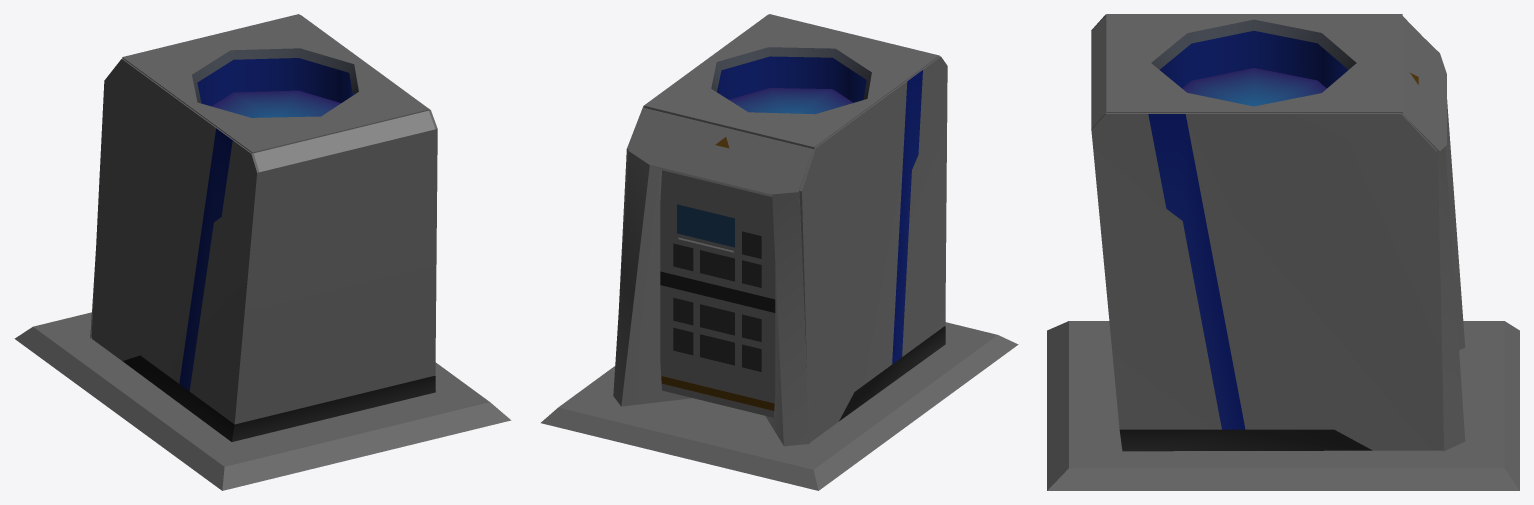
Rendered from W_O_Outdoorunit_001_L3.fbx.
3 renders of one model, left to right at view 1: azimuth 30°, elevation 25°; view 2: azimuth 150°, elevation 25°; view 3: azimuth 270°, elevation 25°, orthographic. The views are drawn at different scales.
Visible parts, largest first — view 1: W_O_Outdoorunit_001_L3; view 2: W_O_Outdoorunit_001_L3; view 3: W_O_Outdoorunit_001_L3.
Part boxes in pixels (box(x1,y1,x2,y2)): W_O_Outdoorunit_001_L3: box(14, 14, 511, 490); W_O_Outdoorunit_001_L3: box(541, 14, 1018, 490); W_O_Outdoorunit_001_L3: box(1047, 14, 1519, 490).
Bounding box in the file's own units: 1.61 × 1.63 × 2.01.
